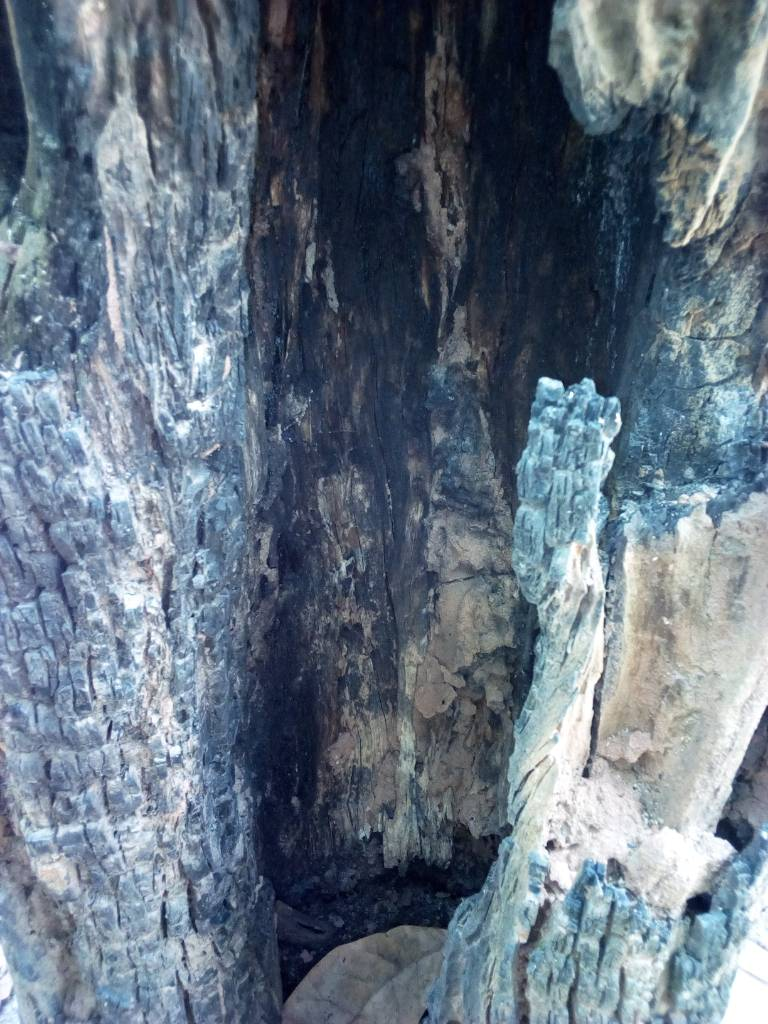Termites: (254, 122, 529, 900), (557, 502, 761, 963)
